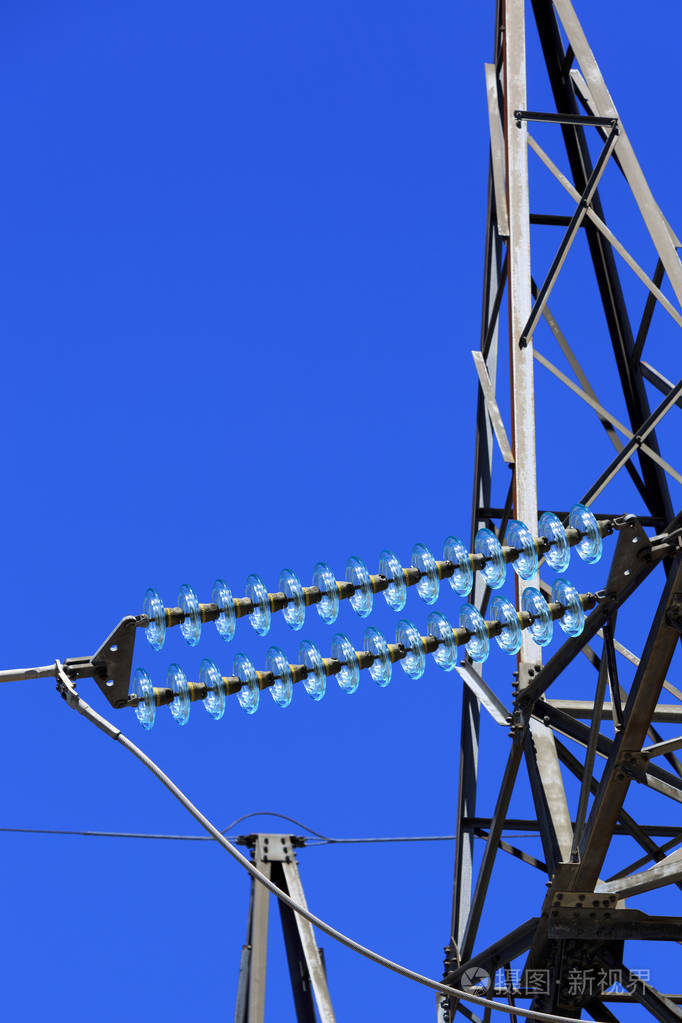insulator: (131, 581, 589, 737), (135, 508, 606, 650)
